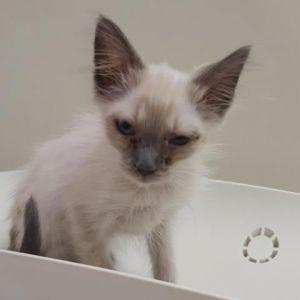siamese: (84, 15, 257, 195)
